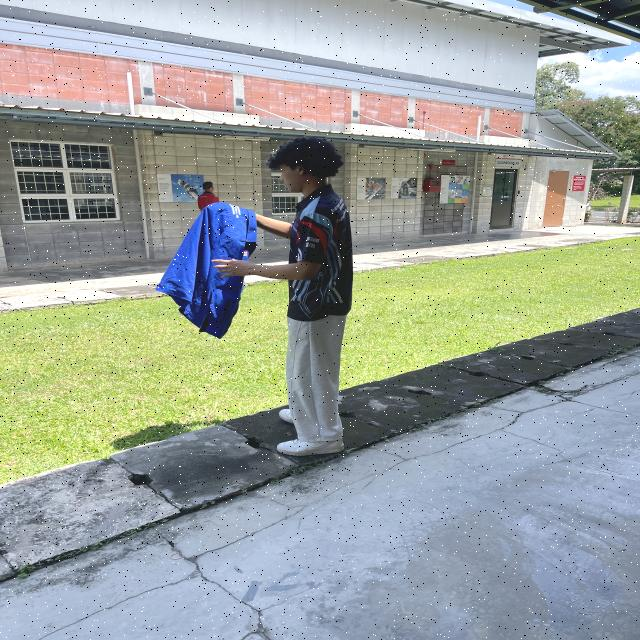person_without_labcoat: (158, 138, 353, 456)
